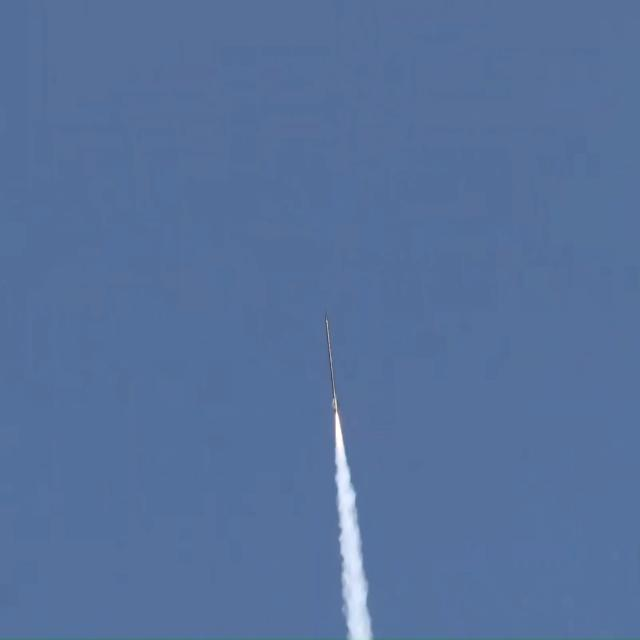Rocket: (326, 315, 338, 416)
